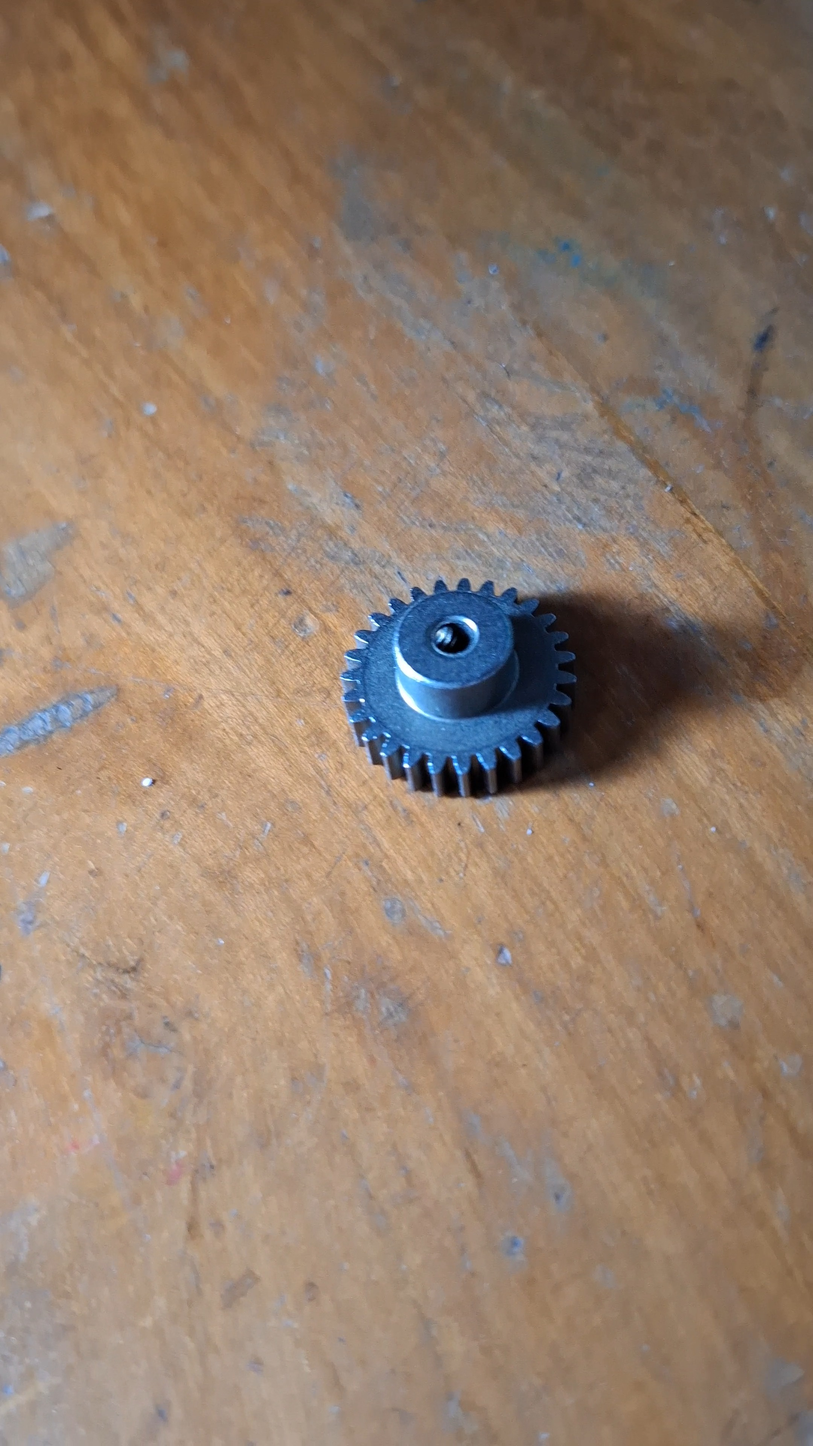spur gear: (342, 578, 574, 795)
